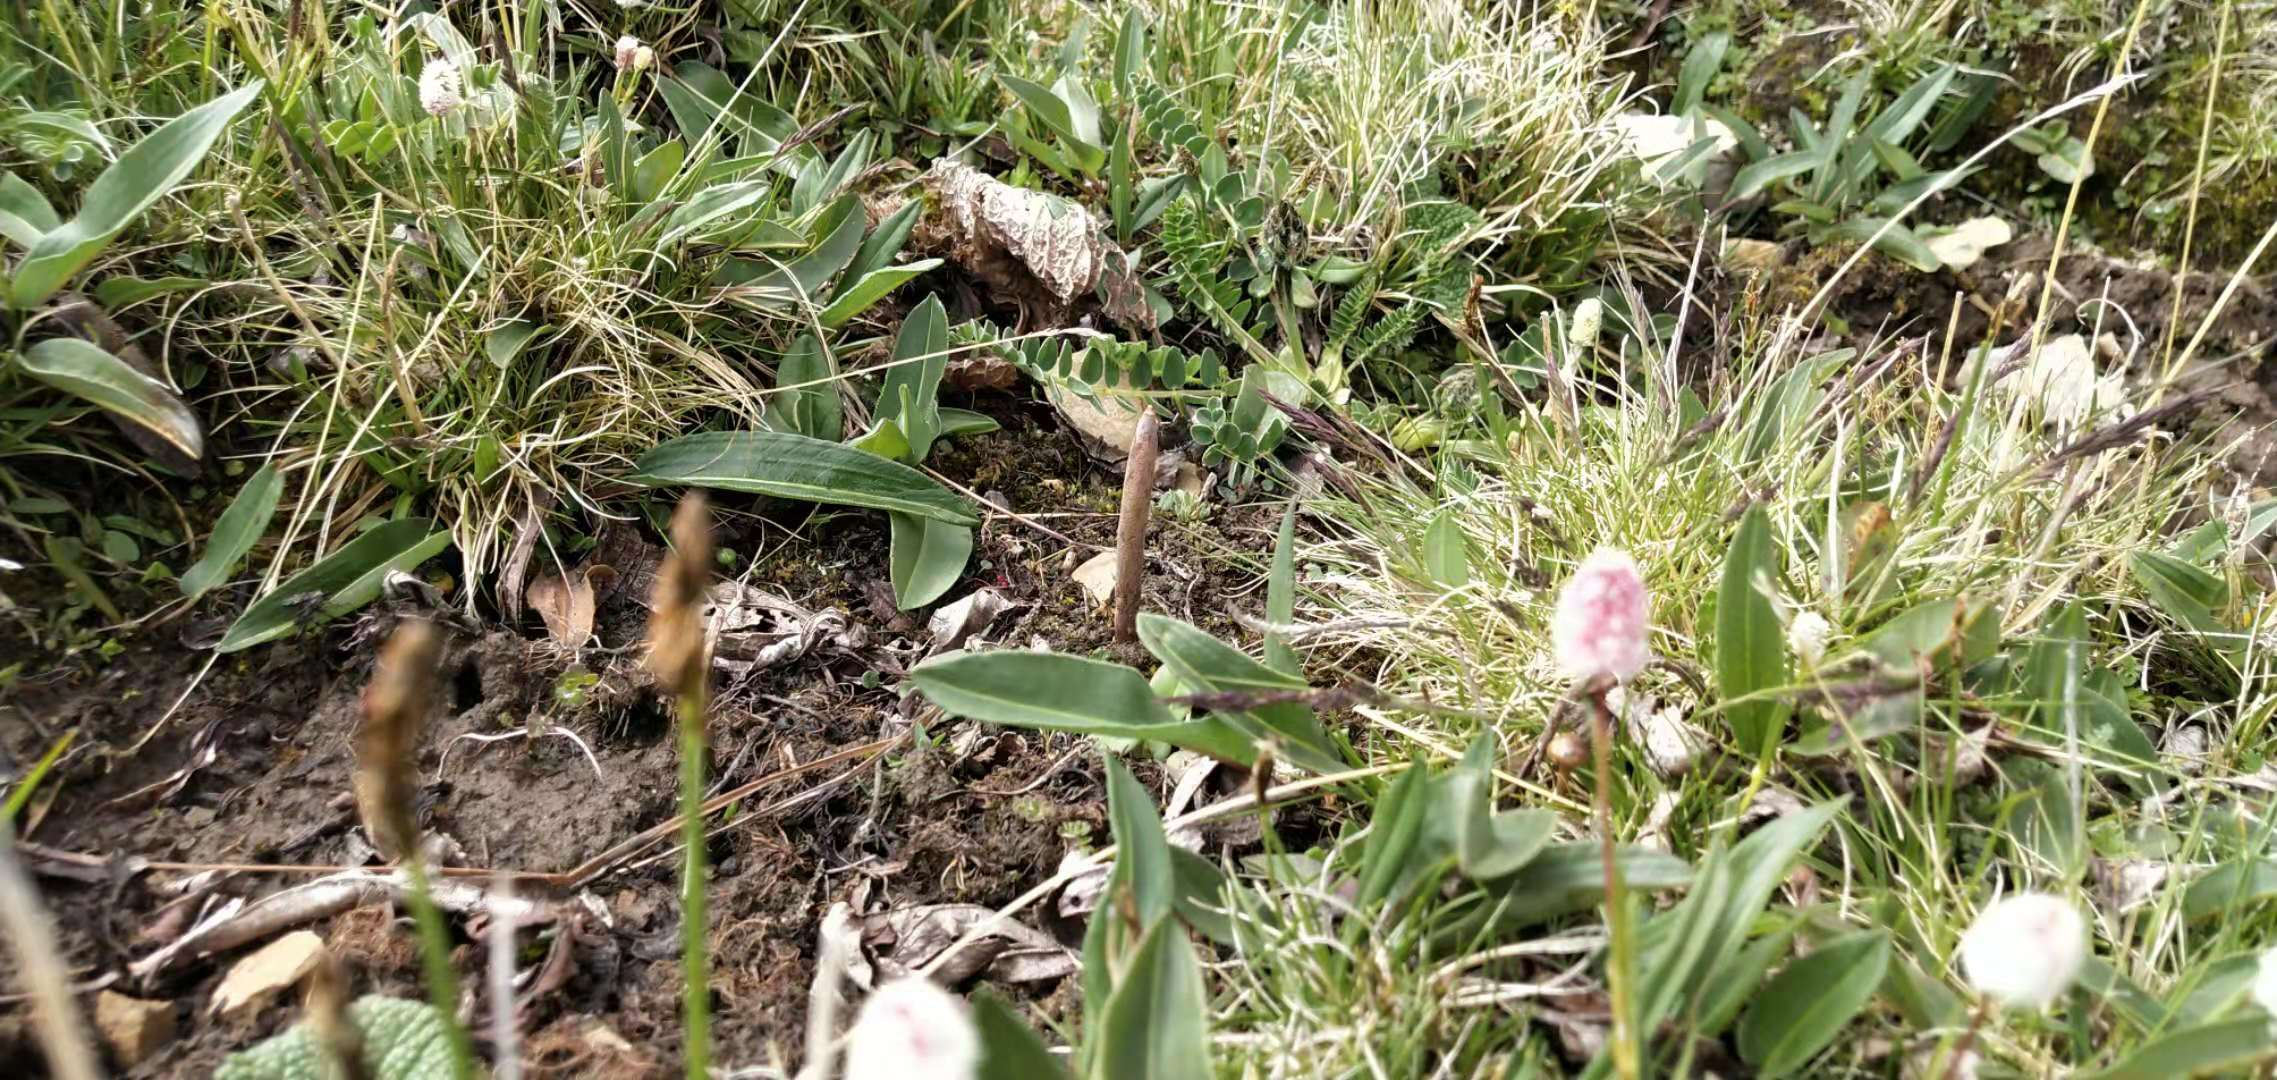cpf: (1109, 396, 1165, 639)
